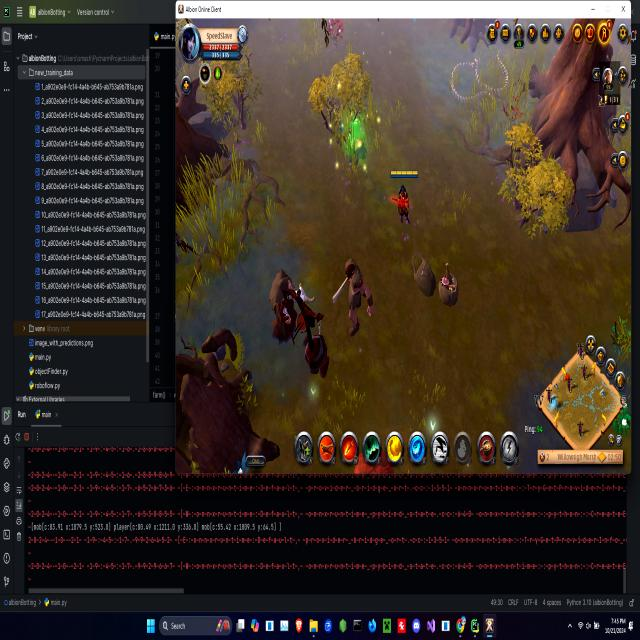hide: (325, 17, 348, 51)
ore: (331, 253, 376, 343), (264, 265, 302, 347)
red: (388, 166, 422, 232)
